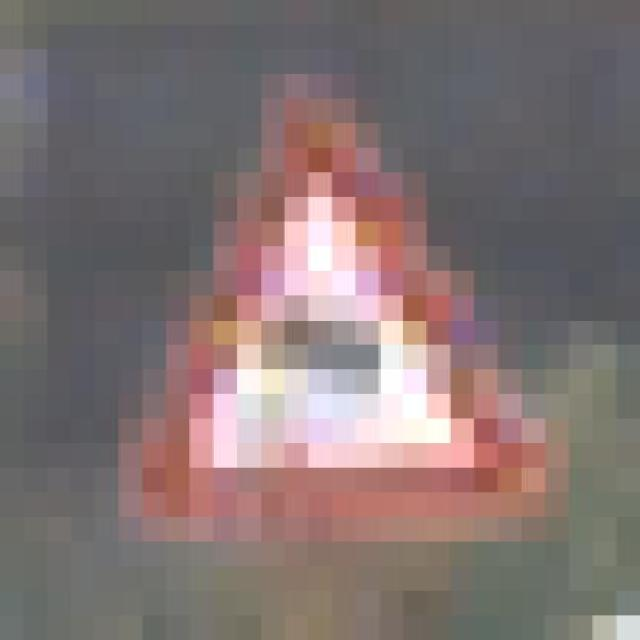Slippery Road Ahead: (94, 65, 568, 557)
